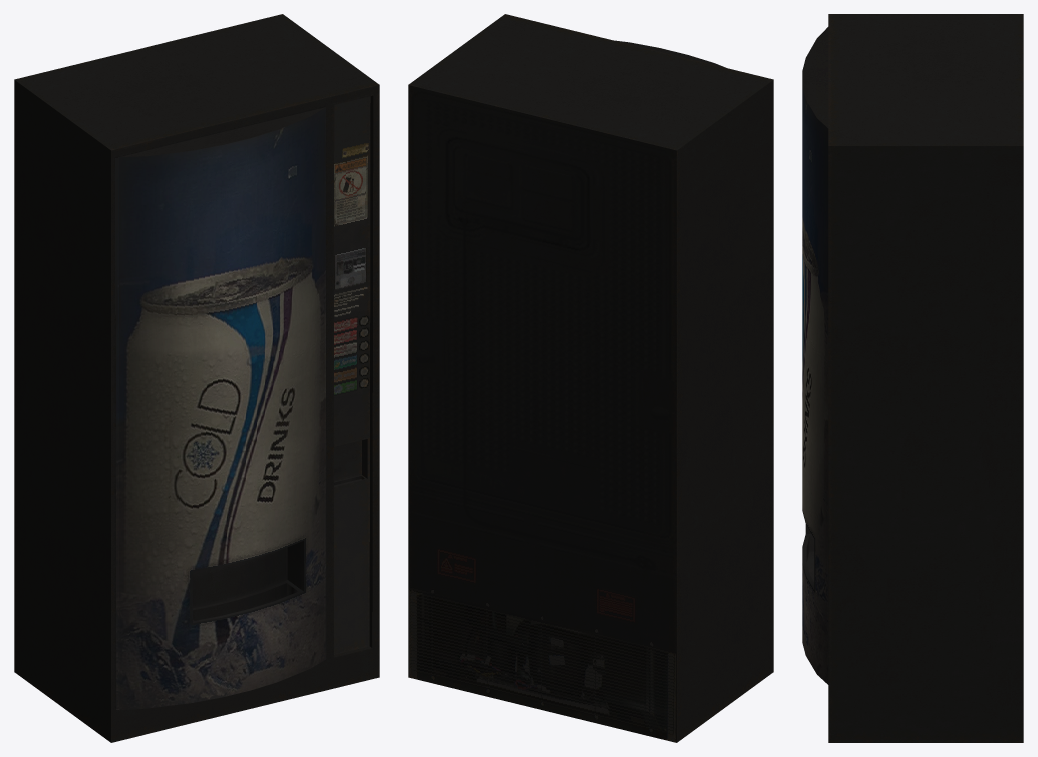
File: vending_machine_1.glb
3 views of the same model, side by side, from view 1: azimuth 30°, elevation 25°; view 2: azimuth 150°, elevation 25°; view 3: azimuth 270°, elevation 25° (orthographic).
Visible parts, largest first — view 1: vending_machine_1; view 2: vending_machine_1; view 3: vending_machine_1.
Boxes of the visible parts, left/top/right/bottom form: vending_machine_1: left=14, top=14, right=379, bottom=742; vending_machine_1: left=408, top=14, right=773, bottom=742; vending_machine_1: left=802, top=14, right=1023, bottom=742.
Bounding box in the file's own units: 0.952 × 2.01 × 0.6751.
1 material, 1 textured.
